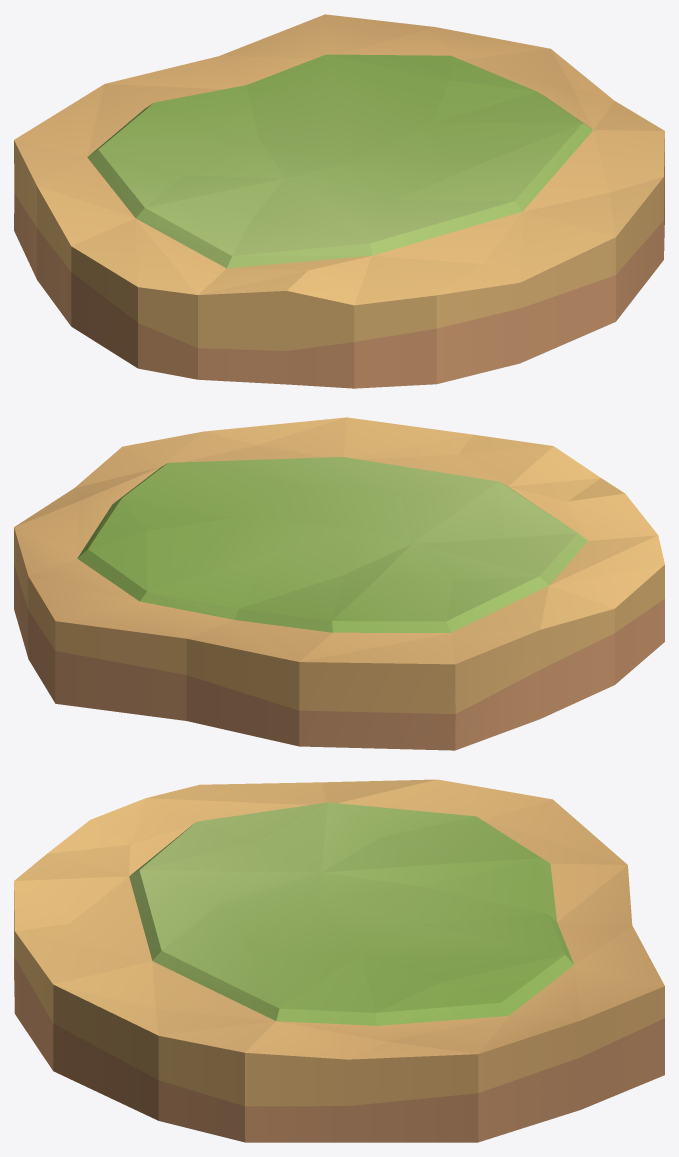
The model's file is island-lighthouse-pier.glb.
The picture shows the model from 3 angles, top to bottom: view 1: azimuth 30°, elevation 25°; view 2: azimuth 150°, elevation 25°; view 3: azimuth 270°, elevation 25°; orthographic projection. The views are drawn at different scales.
Parts seen in each view (by area): view 1: island lighthouse pier; view 2: island lighthouse pier; view 3: island lighthouse pier.
Part boxes in pixels (<box>): island lighthouse pier: <box>14,14,664,388</box>; island lighthouse pier: <box>14,417,664,750</box>; island lighthouse pier: <box>14,779,664,1142</box>.
Bounding box in the file's own units: 24.04 × 4.1 × 23.8.
1 material, 1 textured.
